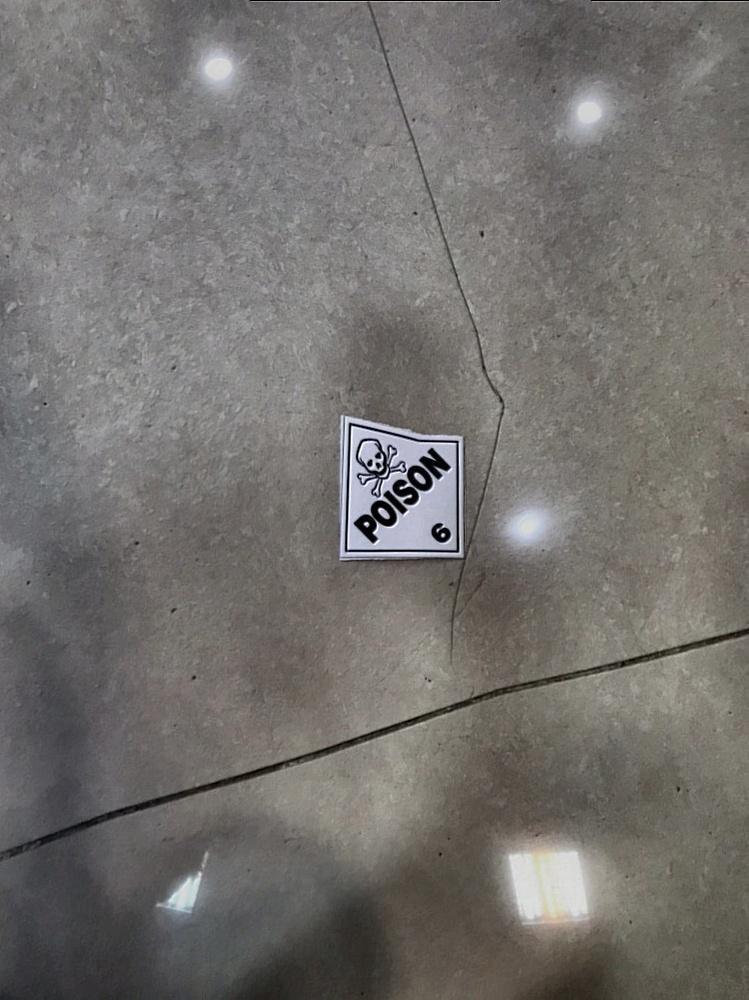poison: (337, 411, 467, 564)
